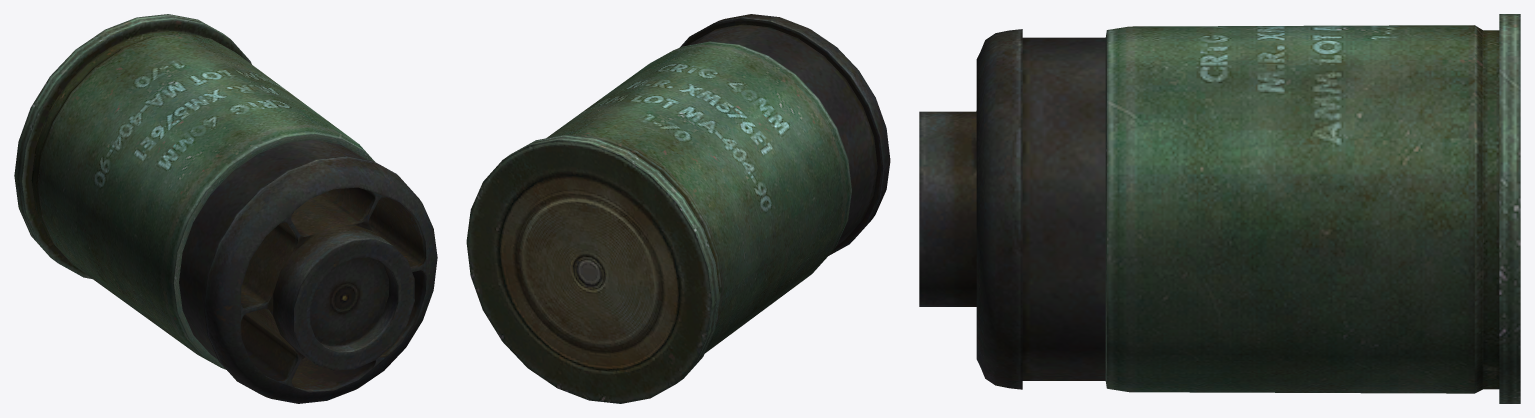
The model's file is patron_40x46_m576.fbx.
The picture shows the model from 3 angles, left to right: view 1: azimuth 30°, elevation 25°; view 2: azimuth 150°, elevation 25°; view 3: azimuth 270°, elevation 25°; orthographic projection. The views are drawn at different scales.
Parts seen in each view (by area): view 1: patron_40x46_m576_full_LOD0; view 2: patron_40x46_m576_full_LOD0; view 3: patron_40x46_m576_full_LOD0.
Boxes of the visible parts, <box> form: patron_40x46_m576_full_LOD0: <box>14,14,437,403</box>; patron_40x46_m576_full_LOD0: <box>466,14,890,403</box>; patron_40x46_m576_full_LOD0: <box>919,14,1520,403</box>.
Size of what is drawn, in the model's own units: 0.0432 by 0.0432 by 0.0664.
Materials: 1 (1 with a texture image).
